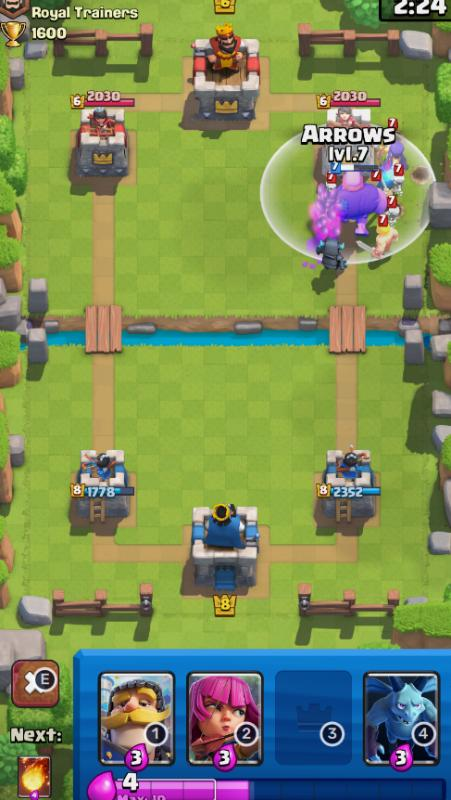geant: (327, 173, 379, 233)
mini_PEKKA: (309, 232, 350, 272)
squelette: (318, 174, 344, 202), (384, 198, 409, 226), (389, 164, 409, 194)
